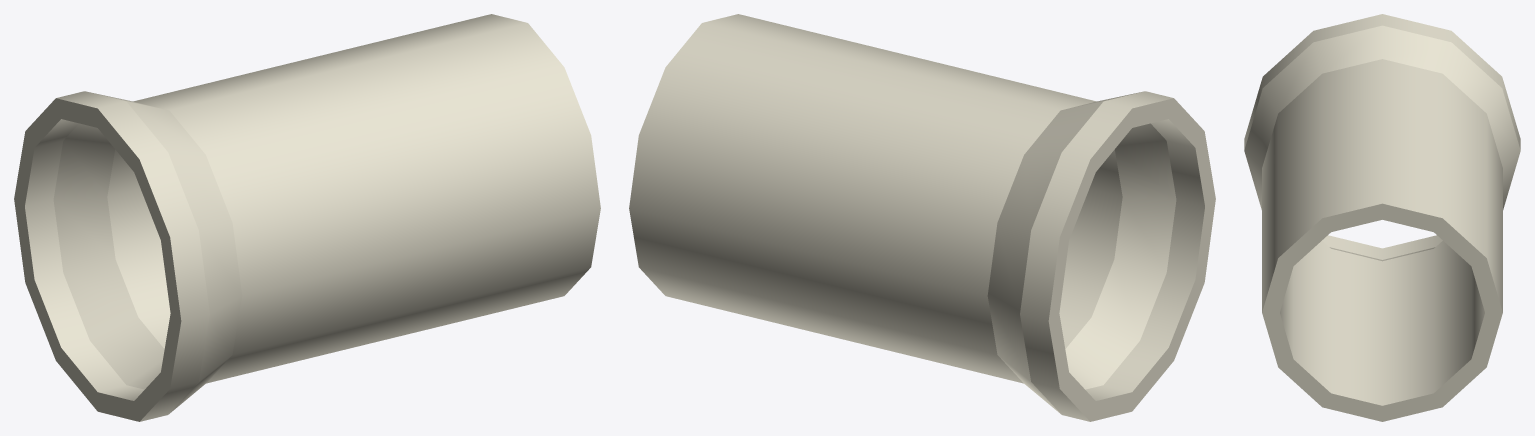
Rendered from socket_pipe_1.5x3m.fbx.
The picture shows the model from 3 angles, left to right: view 1: azimuth 30°, elevation 25°; view 2: azimuth 150°, elevation 25°; view 3: azimuth 270°, elevation 25°; orthographic projection. The views are drawn at different scales.
Parts seen in each view (by area): view 1: Socket_Pipe; view 2: Socket_Pipe; view 3: Socket_Pipe.
Boxes of the visible parts, x1=… form: Socket_Pipe: x1=14, y1=14, x2=600, y2=421; Socket_Pipe: x1=629, y1=14, x2=1215, y2=421; Socket_Pipe: x1=1244, y1=14, x2=1520, y2=421.
Size of the model in its own units: 3 by 2.02 by 2.02.
